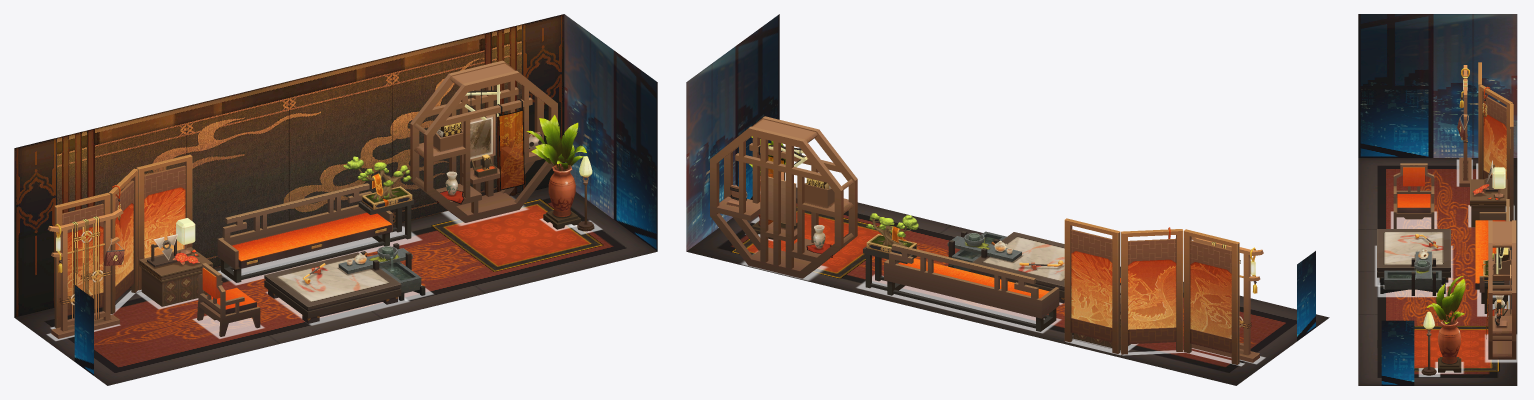
The model's file is reception.glb.
The picture shows the model from 3 angles, left to right: view 1: azimuth 30°, elevation 25°; view 2: azimuth 150°, elevation 25°; view 3: azimuth 270°, elevation 25°; orthographic projection. The views are drawn at different scales.
Parts seen in each view (by area): view 1: ROOM_room, ROOM_floor, furni_reception_screen_01, furni_reception_showcase_01, furni_reception_longBench_01, furni_reception_coffeetable_01, furni_reception_carpet_01, furni_reception_sofa_01, furni_reception_screen_02, furni_reception_vaseGroup_01, furni_reception_showcase_03, furni_reception_vaseGroup_02 (+6 smaller); view 2: furni_reception_screen_01, furni_reception_showcase_01, ROOM_floor, ROOM_room, furni_reception_longBench_01, furni_reception_coffeetable_01, furni_reception_carpet_01, shadow_01.002, ROOM_LDoor, shadow_01; view 3: ROOM_room, ROOM_floor, furni_reception_screen_01, furni_reception_coffeetable_01, furni_reception_showcase_01, furni_reception_carpet_01, ROOM_LDoor, ROOM_RDoor, furni_reception_sofa_01, furni_reception_longBench_01, furni_reception_vaseGroup_01, furni_reception_vaseGroup_02 (+7 smaller).
Part boxes in pixels (<box>): ROOM_room: <box>14,14,657,317</box>; ROOM_floor: <box>14,187,657,385</box>; furni_reception_screen_01: <box>47,154,212,338</box>; furni_reception_showcase_01: <box>410,60,557,222</box>; furni_reception_longBench_01: <box>217,156,414,282</box>; furni_reception_coffeetable_01: <box>264,243,425,323</box>; furni_reception_carpet_01: <box>431,199,603,271</box>; furni_reception_sofa_01: <box>197,263,260,336</box>; furni_reception_screen_02: <box>59,201,199,324</box>; furni_reception_vaseGroup_01: <box>543,156,594,231</box>; furni_reception_showcase_03: <box>498,110,524,190</box>; furni_reception_vaseGroup_02: <box>526,115,586,171</box>; furni_reception_screen_01: <box>1064,218,1263,364</box>; furni_reception_showcase_01: <box>710,116,857,278</box>; ROOM_floor: <box>686,187,1329,385</box>; ROOM_room: <box>686,14,779,251</box>; furni_reception_longBench_01: <box>863,213,1059,331</box>; furni_reception_coffeetable_01: <box>947,231,1064,303</box>; furni_reception_carpet_01: <box>731,206,891,278</box>; shadow_01.002: <box>856,274,1061,333</box>; ROOM_LDoor: <box>1297,251,1315,341</box>; shadow_01: <box>1065,339,1265,366</box>; ROOM_room: <box>1358,14,1517,157</box>; ROOM_floor: <box>1358,158,1517,385</box>; furni_reception_screen_01: <box>1457,62,1513,227</box>; furni_reception_coffeetable_01: <box>1377,229,1450,295</box>; furni_reception_showcase_01: <box>1488,220,1516,359</box>; furni_reception_carpet_01: <box>1414,326,1499,371</box>; ROOM_LDoor: <box>1381,92,1414,157</box>; ROOM_RDoor: <box>1381,320,1414,385</box>; furni_reception_sofa_01: <box>1393,163,1434,228</box>; furni_reception_longBench_01: <box>1475,199,1509,313</box>; furni_reception_vaseGroup_01: <box>1421,311,1461,375</box>; furni_reception_vaseGroup_02: <box>1427,276,1465,324</box>.
Size of the model in its own units: 7.48 by 2.2 by 2.23.
Materials: 6 (6 with a texture image).
